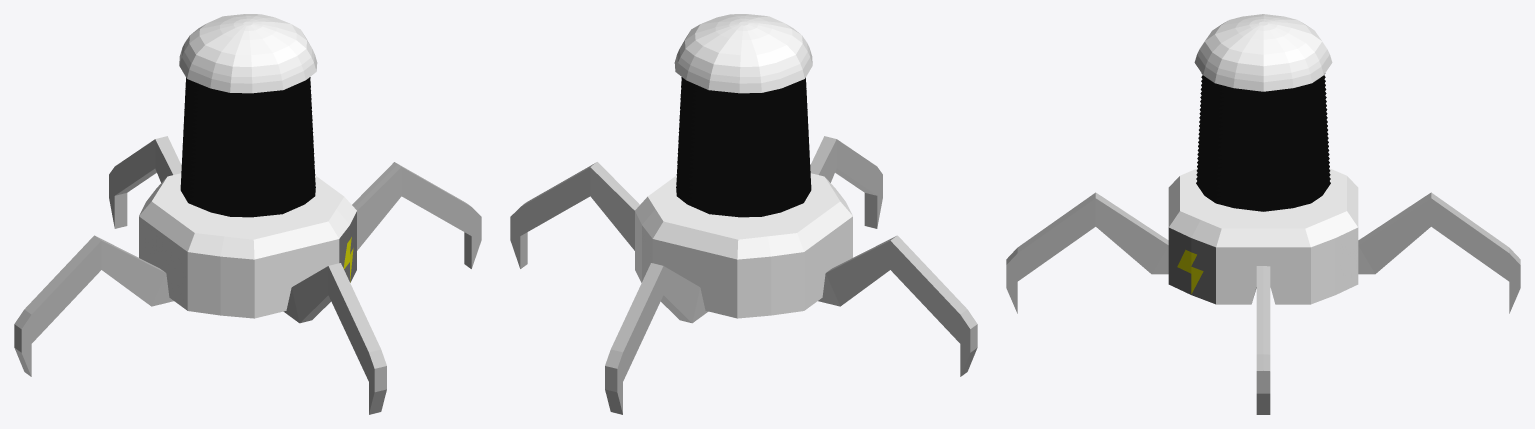
Rendered from EMPbot.fbx.
3 views of the same model, side by side, from view 1: azimuth 30°, elevation 25°; view 2: azimuth 150°, elevation 25°; view 3: azimuth 270°, elevation 25° (orthographic). The views are drawn at different scales.
Parts seen in each view (by area): view 1: Cube; view 2: Cube; view 3: Cube.
Part boxes in pixels (x1,y1,x2,y2): Cube: [14, 14, 481, 414]; Cube: [510, 14, 977, 414]; Cube: [1006, 14, 1520, 414].
Size of the model in its own units: 460 by 284 by 460.
